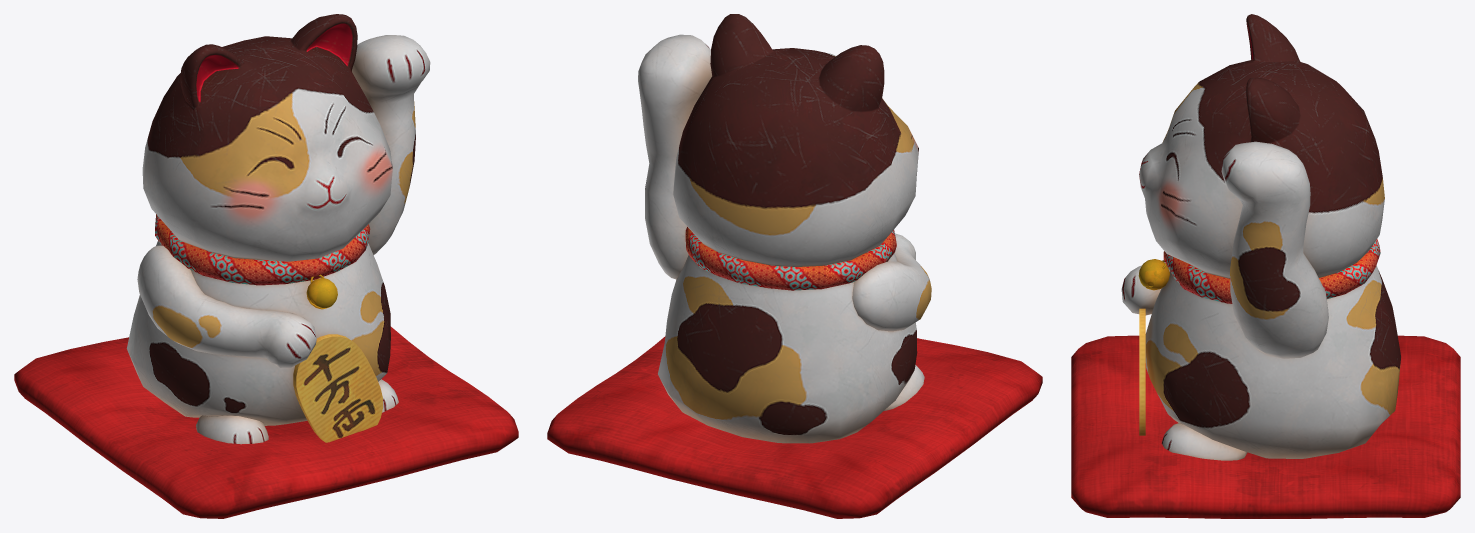
File: lucky_cat.glb
3 views of the same model, side by side, from view 1: azimuth 30°, elevation 25°; view 2: azimuth 150°, elevation 25°; view 3: azimuth 270°, elevation 25° (orthographic).
Parts seen in each view (by area): view 1: body, seat, coin, choker, bell; view 2: body, seat, choker; view 3: body, seat, choker, coin, bell.
Part boxes in pixels (left/top/right/bottom): body: left=126, top=14, right=430, bottom=444; seat: left=14, top=326, right=518, bottom=518; coin: left=293, top=334, right=382, bottom=442; choker: left=155, top=214, right=370, bottom=285; bell: left=306, top=274, right=337, bottom=309; body: left=638, top=14, right=931, bottom=443; seat: left=547, top=336, right=1042, bottom=518; choker: left=685, top=227, right=896, bottom=290; body: left=1121, top=14, right=1400, bottom=460; seat: left=1071, top=335, right=1460, bottom=518; choker: left=1163, top=239, right=1380, bottom=303; coin: left=1139, top=308, right=1145, bottom=435; bell: left=1138, top=259, right=1169, bottom=290.
Bounding box in the file's own units: 0.1506 × 0.1687 × 0.1506.
3 materials, 3 textured.
